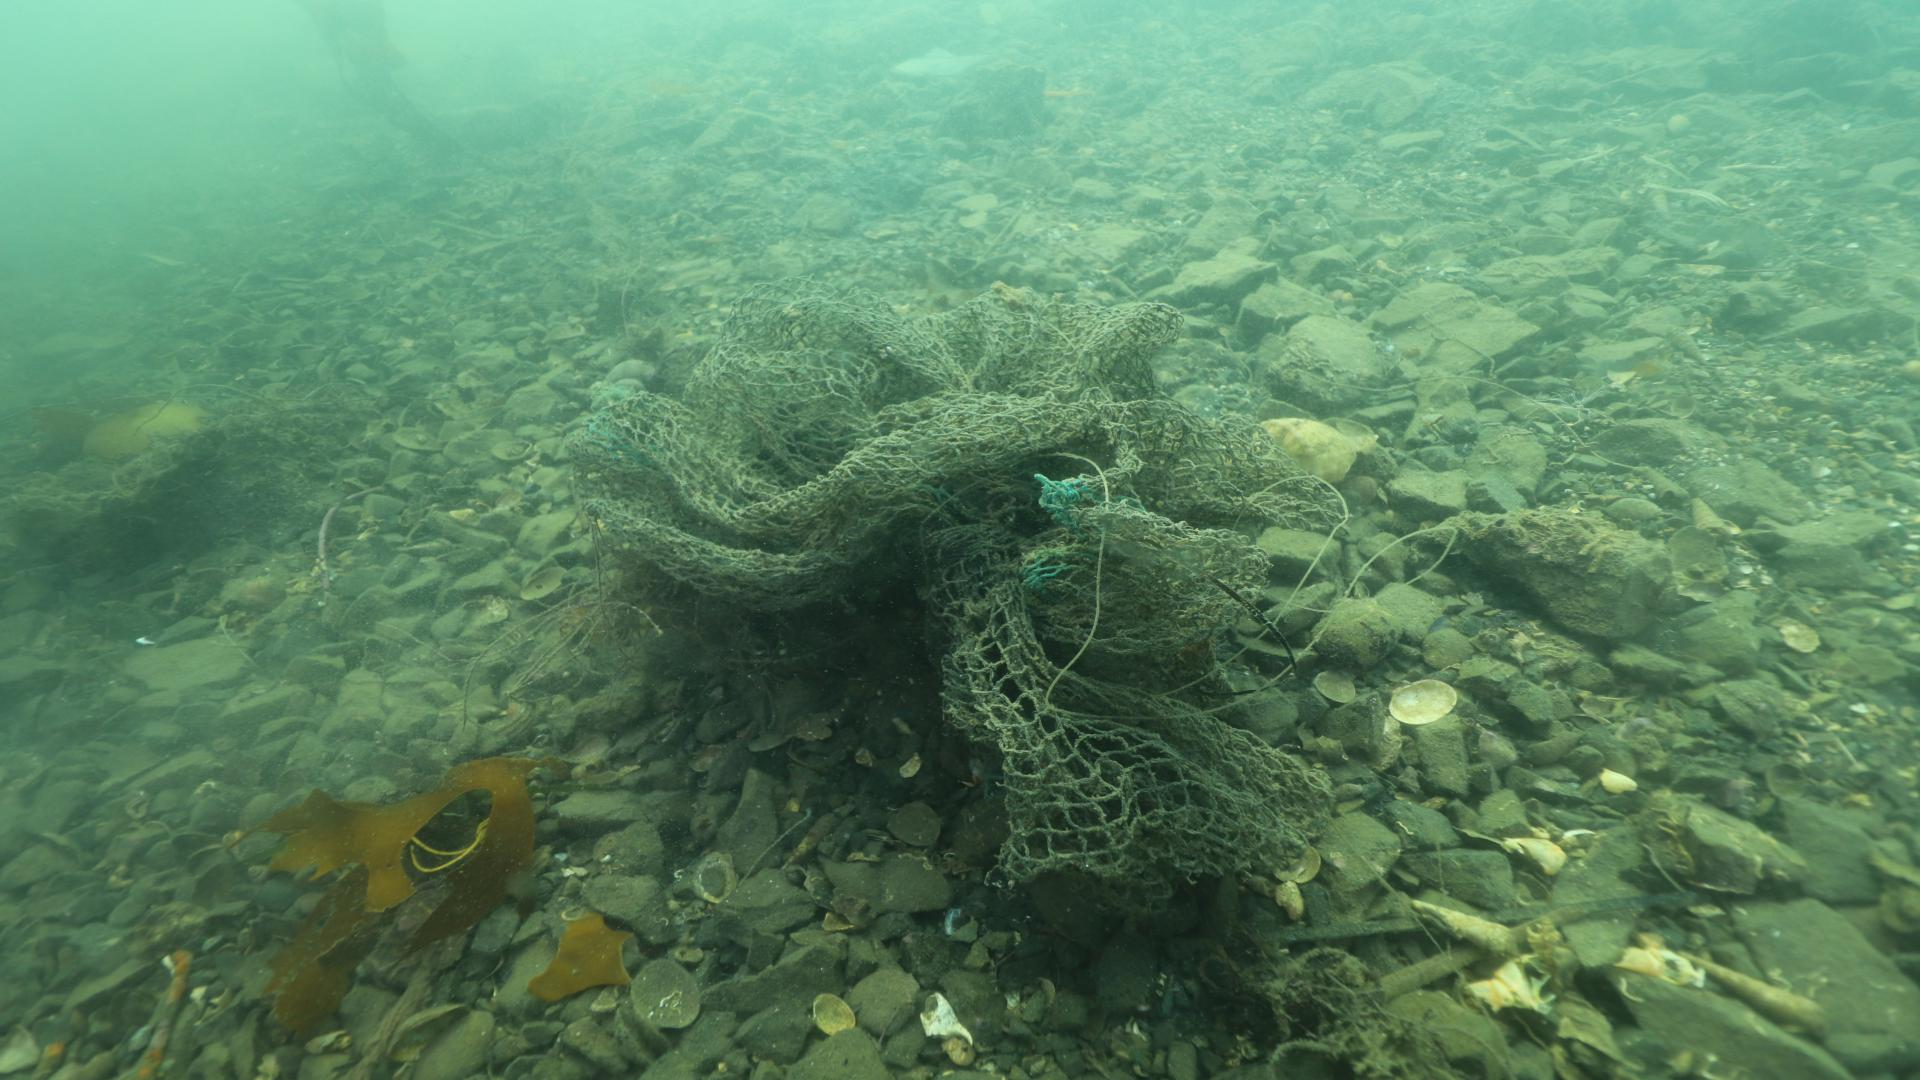fish net: (612, 272, 1353, 874)
